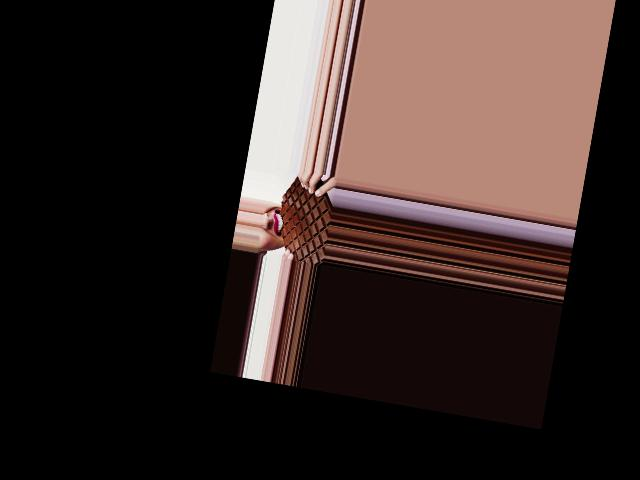chocolate: (270, 167, 338, 265)
